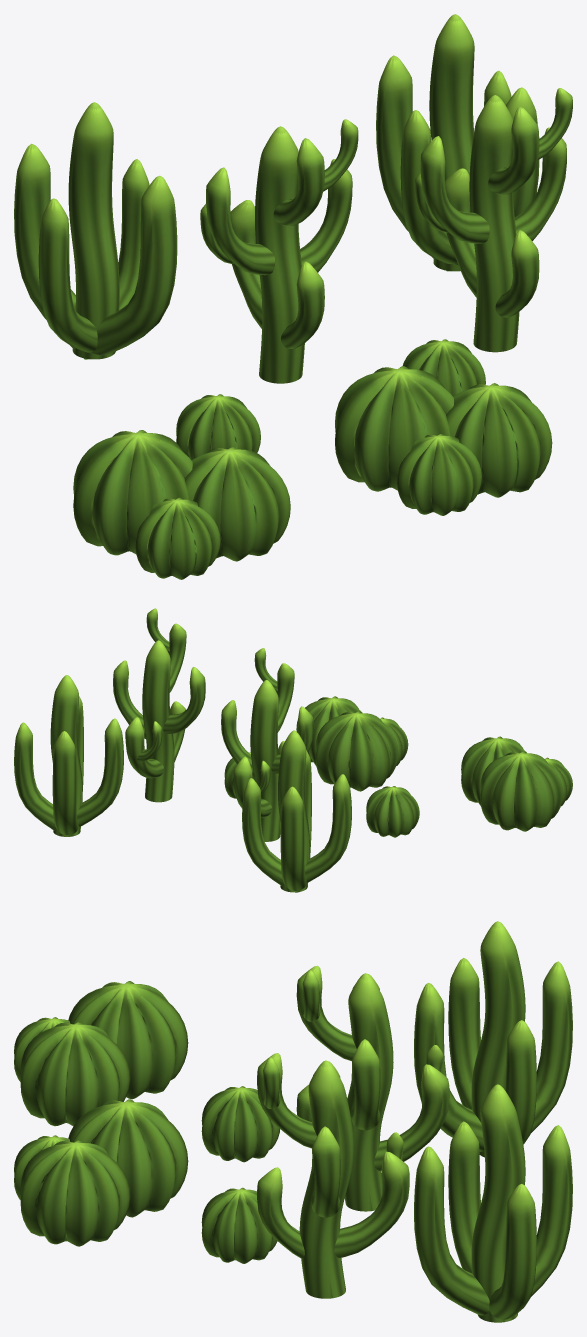
File: cactus.FBX
3 renders of one model, top to bottom at view 1: azimuth 30°, elevation 25°; view 2: azimuth 150°, elevation 25°; view 3: azimuth 270°, elevation 25°, orthographic. The views are drawn at different scales.
Visible parts, largest first — view 1: Cylinder006, Sphere008, Sphere004, Cylinder003, Cylinder007, Cylinder009, Sphere005, Sphere001; view 2: Cylinder006, Cylinder007, Cylinder009, Sphere008, Cylinder003, Sphere004, Sphere005, Sphere001; view 3: Cylinder009, Cylinder006, Sphere004, Sphere008, Cylinder007, Cylinder003, Sphere005, Sphere001.
Boxes of the visible parts, x1,y1,x2,y2 form: Cylinder006: (14, 102, 177, 359); Sphere008: (73, 430, 290, 579); Sphere004: (335, 366, 552, 515); Cylinder003: (200, 119, 358, 383); Cylinder007: (415, 88, 572, 352); Cylinder009: (376, 14, 539, 271); Sphere005: (176, 394, 260, 459); Sphere001: (402, 339, 485, 396); Cylinder006: (242, 730, 351, 892); Cylinder007: (113, 608, 205, 802); Cylinder009: (14, 675, 123, 836); Sphere008: (461, 736, 572, 831); Cylinder003: (221, 648, 313, 841); Sphere004: (296, 696, 408, 791); Sphere005: (366, 786, 419, 837); Sphere001: (224, 752, 254, 798); Cylinder009: (414, 1084, 572, 1322); Cylinder006: (414, 921, 572, 1157); Sphere004: (14, 1099, 188, 1246); Sphere008: (14, 981, 188, 1126); Cylinder007: (257, 1053, 409, 1298); Cylinder003: (296, 965, 449, 1211); Sphere005: (201, 1086, 279, 1162); Sphere001: (201, 1187, 277, 1263).
Bounding box in the file's own units: 553 × 228 × 447.
Materials: 2 (2 with a texture image).
